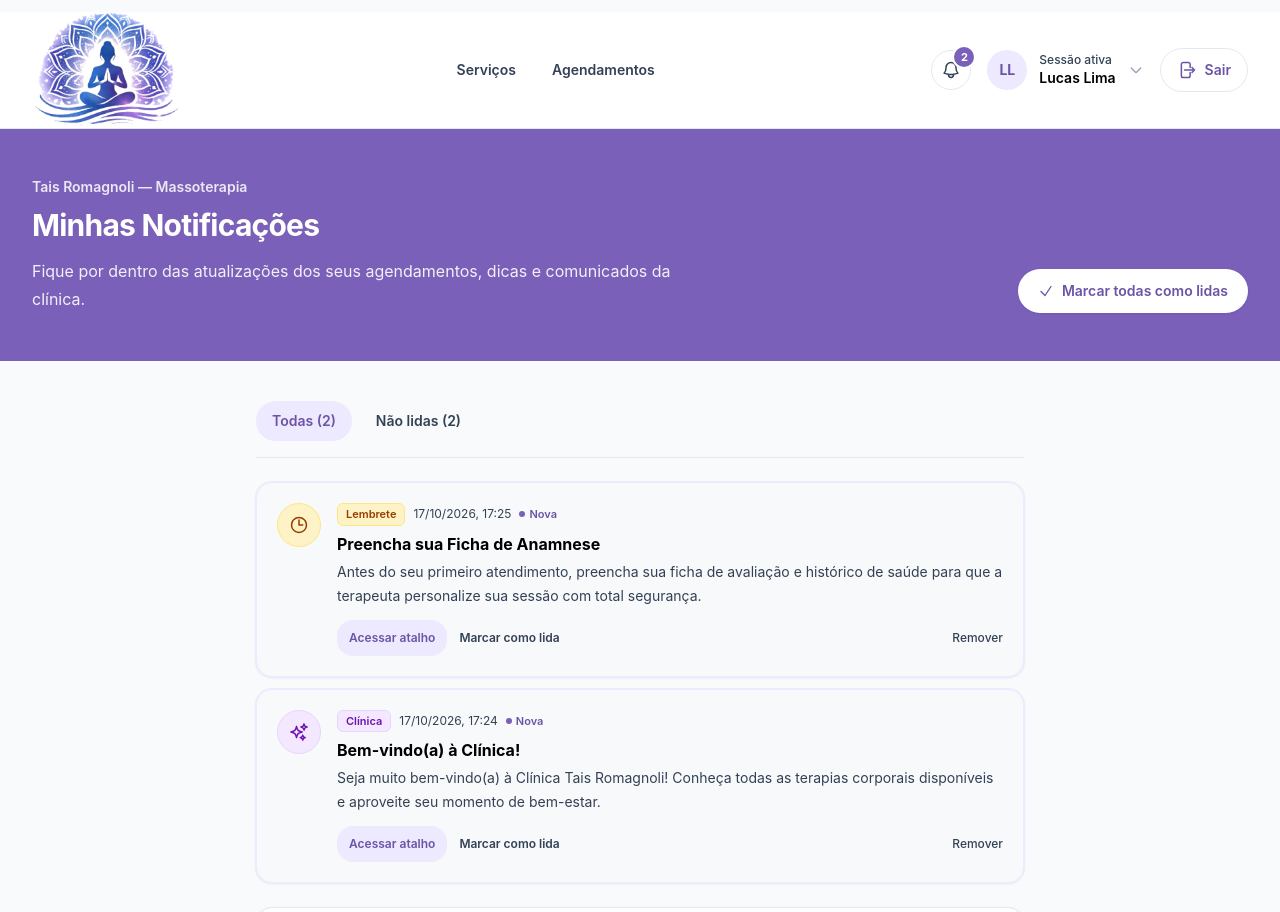
NotificationsPage › filtra apenas notificacoes nao lidas ao selecionar a aba correspondente
# Marca a primeira como lida
Click the button "Marcar como lida" below "Preencha sua Ficha de Anamnese".
click(510, 638)  # box x1=459 y1=630 x2=560 y2=646
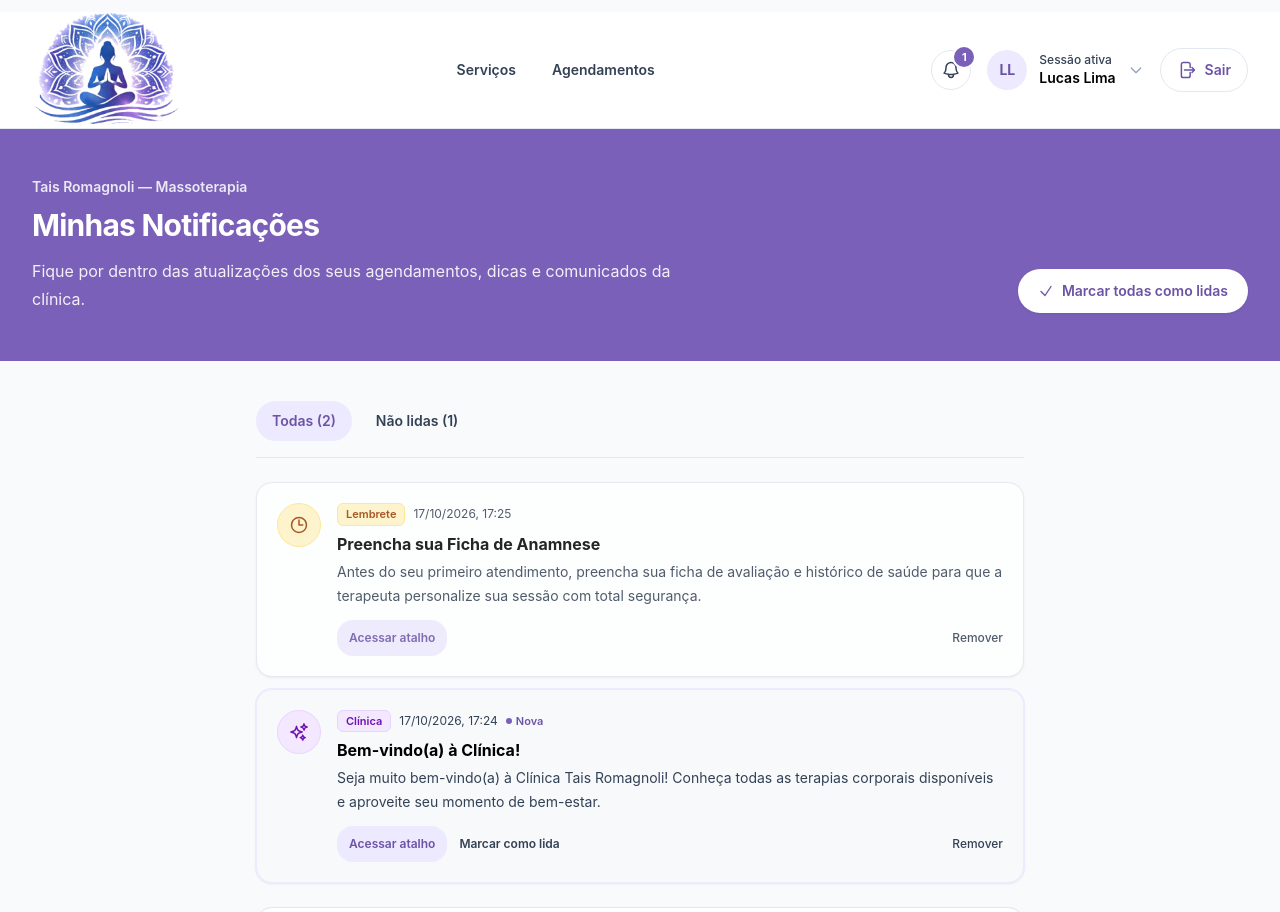
Click the button "Não lidas (1)".
click(417, 421)  # box x1=360 y1=401 x2=474 y2=441
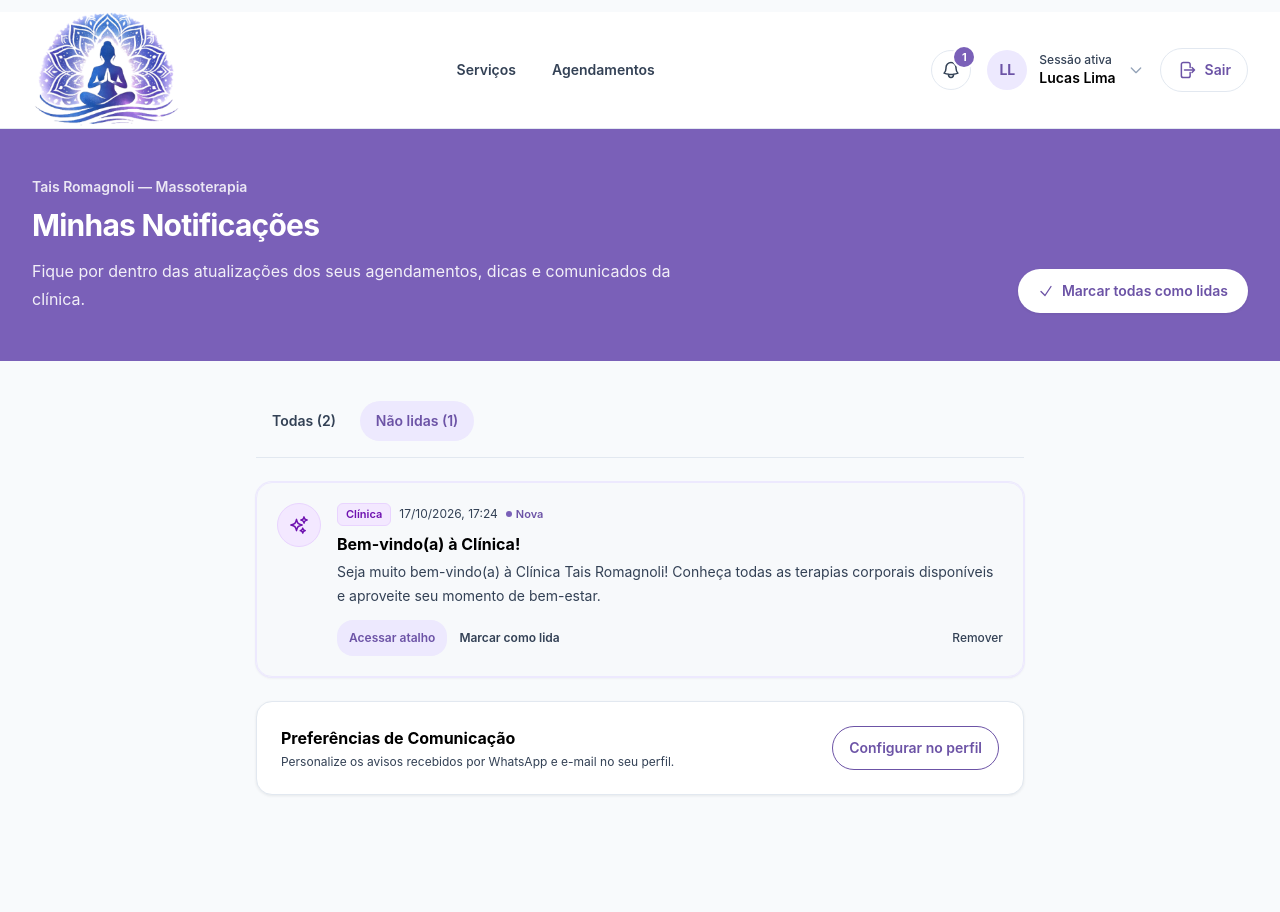
Expected: the heading "Bem-vindo(a) à Clínica!" is shown, x1=337 y1=534 x2=520 y2=554
Now the heading "Preencha sua Ficha de Anamnese" is gone
